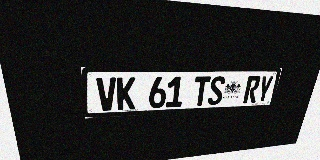1: (166, 77, 184, 107)
6: (149, 77, 167, 108)
K: (117, 77, 135, 110)
R: (243, 76, 261, 103)
S: (207, 76, 226, 105)
T: (192, 76, 211, 106)
V: (96, 77, 117, 111)
Y: (256, 76, 274, 103)
